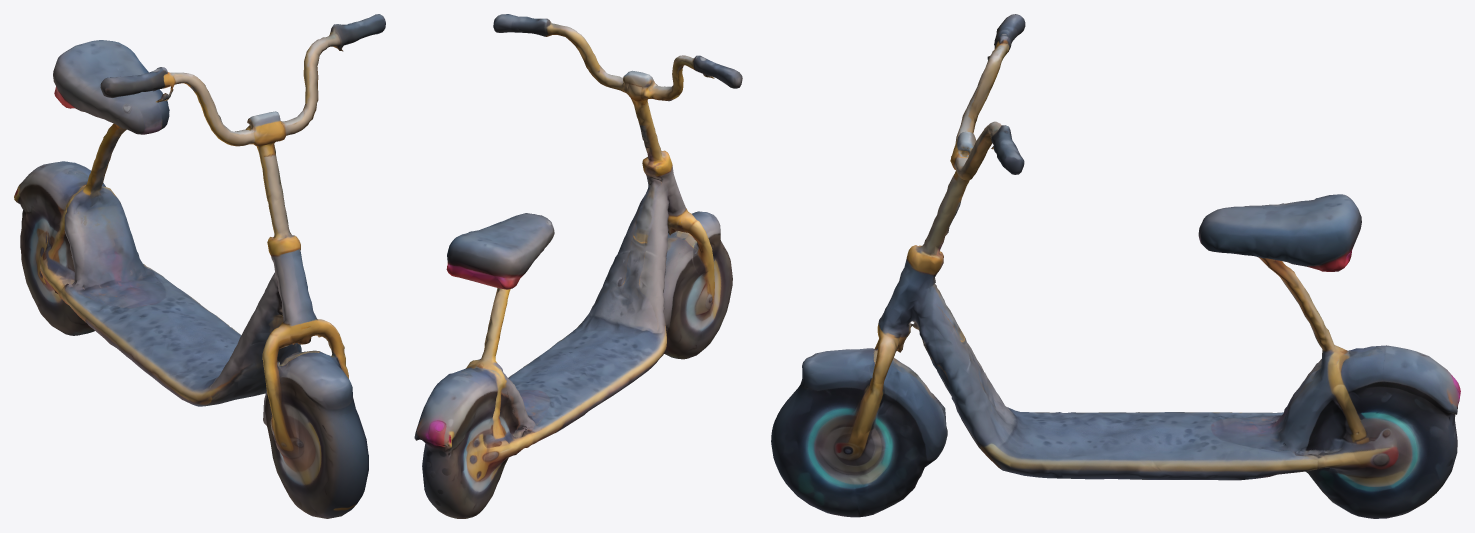
Rendered from 27e0c43f-380c-4e6f-9343-b2187e5add62.glb.
The picture shows the model from 3 angles, left to right: view 1: azimuth 30°, elevation 25°; view 2: azimuth 150°, elevation 25°; view 3: azimuth 270°, elevation 25°; orthographic projection. The views are drawn at different scales.
Size of the model in its own units: 0.595 by 0.8359 by 1.2.
1 material, 1 textured.
